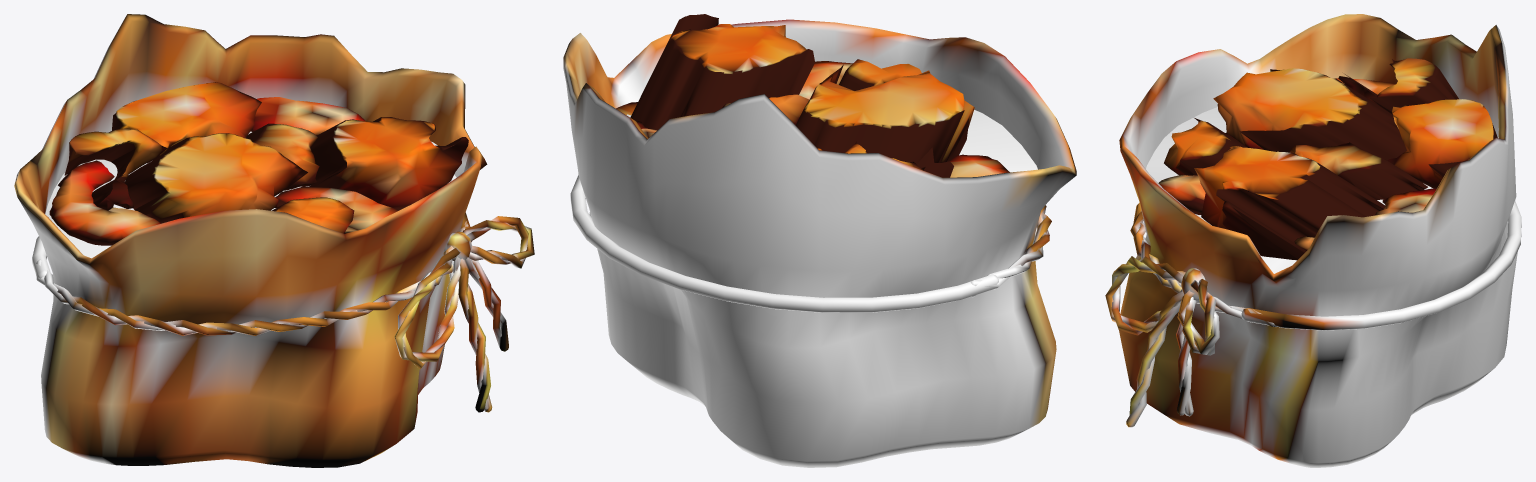
The model's file is SM_seafood.fbx.
3 views of the same model, side by side, from view 1: azimuth 30°, elevation 25°; view 2: azimuth 150°, elevation 25°; view 3: azimuth 270°, elevation 25° (orthographic). The views are drawn at different scales.
Visible parts, largest first — view 1: SM_seafood; view 2: SM_seafood; view 3: SM_seafood.
Boxes of the visible parts, box(x1,y1,x2,y2) form: SM_seafood: box(14, 14, 534, 467); SM_seafood: box(563, 14, 1076, 467); SM_seafood: box(1105, 14, 1521, 467).
Bounding box in the file's own units: 0.2959 × 0.2143 × 0.2342.
